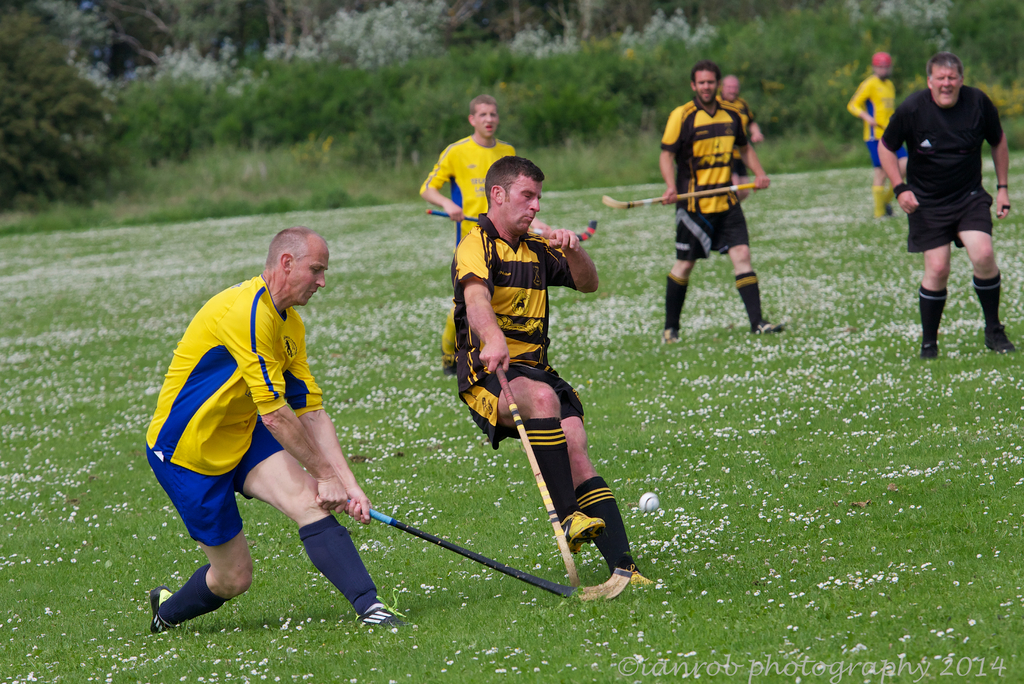Ball: (639, 492, 660, 513)
